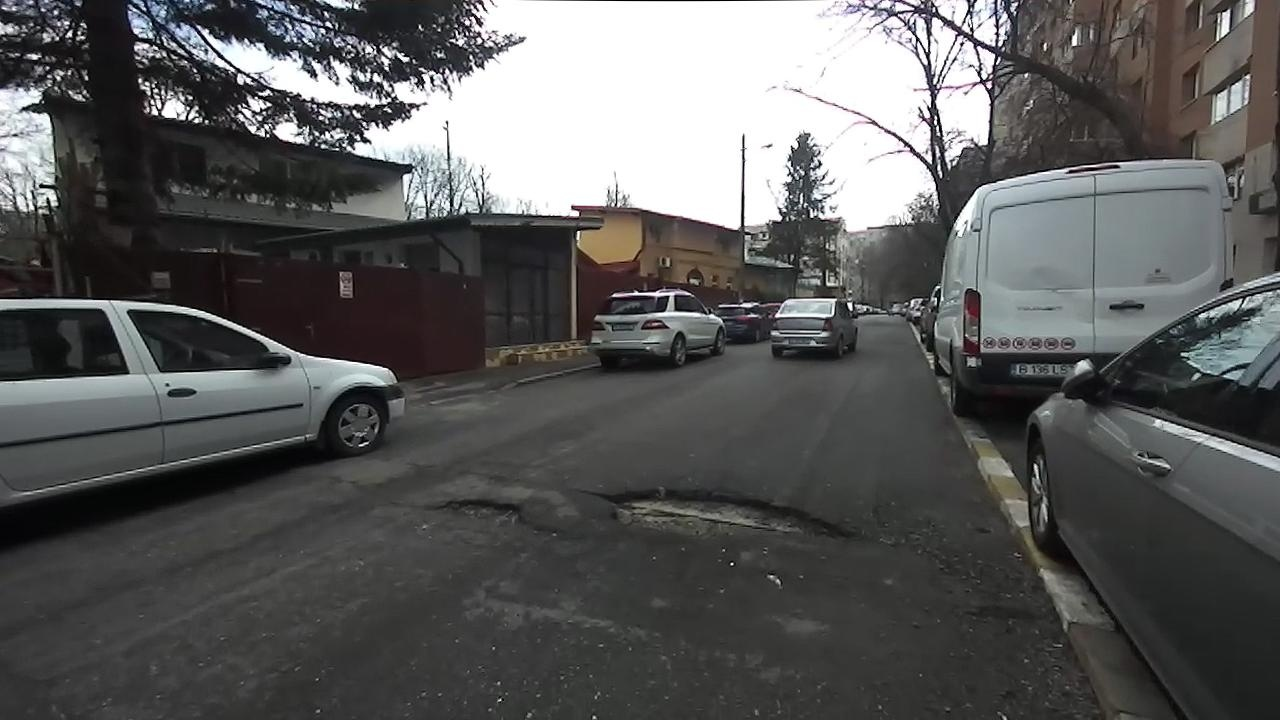pothole: (579, 479, 871, 561), (423, 494, 554, 535)
